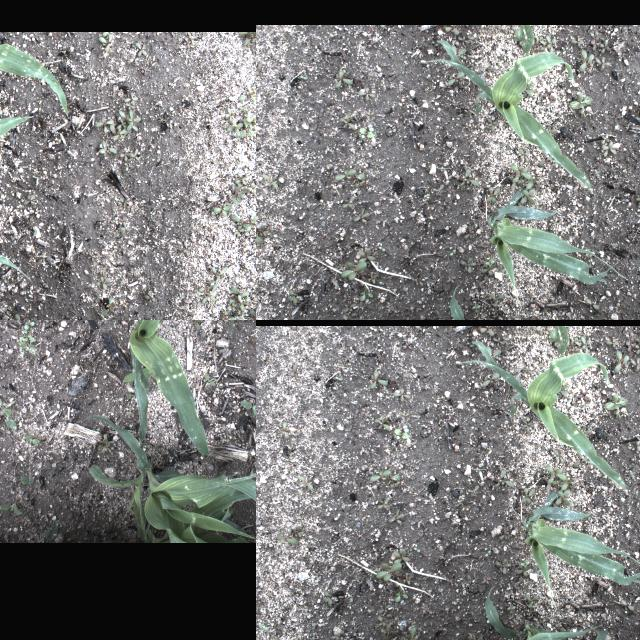crop: (424, 39, 596, 201), (459, 340, 631, 502), (85, 415, 256, 542), (488, 186, 626, 308), (129, 320, 252, 455), (523, 487, 640, 608), (484, 586, 623, 640), (0, 32, 70, 116), (449, 285, 588, 320), (0, 188, 33, 320), (0, 114, 36, 229), (519, 24, 533, 54), (554, 326, 568, 354)
weed: (92, 108, 144, 140), (224, 105, 256, 135), (231, 171, 256, 202), (228, 210, 256, 235), (340, 260, 372, 280), (375, 561, 407, 581), (0, 394, 17, 431), (604, 392, 628, 418), (228, 287, 252, 311), (569, 92, 593, 116), (127, 40, 149, 64), (509, 162, 533, 184), (488, 469, 514, 489), (96, 31, 122, 50), (215, 198, 235, 222), (454, 168, 478, 188), (123, 366, 153, 382), (544, 464, 568, 484), (198, 283, 220, 303), (512, 27, 536, 45), (118, 146, 138, 166), (483, 344, 503, 364), (276, 526, 298, 544), (548, 328, 570, 346), (334, 167, 366, 179), (578, 48, 594, 72), (601, 140, 625, 156), (369, 468, 401, 480), (208, 265, 226, 285), (334, 69, 354, 87), (448, 44, 468, 62), (18, 337, 36, 357), (369, 370, 389, 388), (613, 350, 629, 372), (238, 81, 256, 100), (380, 622, 399, 640), (96, 140, 120, 154), (352, 207, 370, 225), (387, 508, 405, 526), (100, 295, 116, 315), (520, 486, 536, 506), (144, 288, 160, 306), (260, 172, 278, 188), (480, 260, 498, 276), (447, 70, 465, 86), (485, 186, 501, 204), (519, 187, 535, 205), (23, 433, 39, 451), (238, 402, 256, 418), (392, 549, 410, 565), (554, 488, 570, 506), (357, 86, 377, 100), (6, 476, 34, 486), (392, 387, 412, 401), (237, 34, 256, 48), (116, 195, 138, 207), (514, 83, 536, 95), (358, 248, 374, 264), (516, 561, 532, 577), (560, 476, 576, 492), (110, 82, 124, 100), (122, 90, 140, 104), (536, 154, 554, 168), (482, 372, 500, 386), (360, 282, 372, 302), (46, 522, 58, 542), (278, 420, 290, 440), (395, 583, 407, 603), (405, 625, 421, 640), (550, 384, 570, 396), (580, 334, 592, 354), (0, 504, 23, 514), (360, 122, 374, 138), (296, 474, 312, 488), (394, 424, 410, 438), (525, 594, 539, 610), (220, 310, 242, 320), (117, 218, 127, 240), (546, 32, 556, 54), (594, 56, 612, 68), (571, 456, 589, 468), (490, 294, 504, 308), (526, 176, 540, 190), (620, 598, 634, 612), (181, 239, 193, 255), (486, 116, 498, 132), (584, 298, 600, 310), (374, 417, 390, 429), (376, 496, 392, 508), (24, 226, 41, 237), (182, 32, 195, 46), (342, 195, 356, 208), (22, 193, 38, 204), (177, 101, 193, 112), (340, 116, 354, 128), (342, 302, 356, 314), (518, 148, 530, 162), (589, 36, 601, 50), (100, 434, 114, 446), (204, 374, 216, 388), (288, 363, 300, 377), (521, 418, 533, 432), (553, 449, 565, 463), (624, 337, 636, 351), (288, 288, 298, 304), (444, 24, 460, 34), (600, 38, 610, 54), (479, 325, 495, 335), (246, 305, 256, 320), (518, 177, 534, 186), (553, 478, 569, 487), (629, 356, 640, 369), (98, 276, 112, 286), (520, 78, 534, 88), (542, 124, 556, 134), (323, 590, 333, 604), (577, 425, 591, 435), (532, 39, 544, 50), (468, 484, 479, 496), (558, 628, 569, 640), (434, 182, 444, 195), (256, 62, 265, 76), (189, 320, 203, 329), (272, 409, 286, 418), (138, 64, 150, 74), (368, 272, 378, 284), (458, 259, 468, 271), (462, 228, 472, 240), (457, 34, 469, 44), (542, 88, 554, 98), (534, 34, 546, 44), (601, 132, 611, 144), (20, 330, 32, 340), (100, 444, 112, 454), (258, 622, 270, 632), (396, 576, 406, 588), (378, 604, 390, 614), (377, 616, 389, 626), (492, 335, 504, 345), (556, 379, 568, 389), (15, 312, 29, 320), (570, 37, 584, 45), (605, 338, 619, 346), (186, 308, 197, 318), (125, 393, 136, 403), (256, 225, 262, 243), (403, 573, 412, 585), (493, 560, 502, 572), (140, 234, 150, 244), (361, 276, 371, 286), (342, 293, 352, 303), (595, 30, 605, 40), (377, 594, 387, 604), (497, 530, 507, 540), (578, 389, 588, 399), (570, 335, 580, 345), (568, 340, 578, 350), (261, 224, 269, 236), (266, 374, 270, 398), (296, 525, 304, 537), (380, 412, 392, 420), (496, 562, 512, 568), (402, 410, 411, 420), (630, 332, 640, 341), (634, 339, 640, 354), (536, 361, 544, 372), (344, 112, 358, 118), (468, 258, 474, 272), (366, 110, 376, 118), (390, 121, 400, 129), (385, 226, 393, 236), (466, 34, 474, 44), (478, 183, 488, 191), (24, 321, 34, 329), (130, 406, 138, 416), (268, 404, 276, 414), (425, 422, 435, 430), (420, 527, 428, 537), (400, 560, 410, 568), (422, 607, 432, 615), (467, 635, 483, 640), (520, 559, 530, 567), (480, 486, 490, 494), (500, 336, 510, 344), (540, 616, 550, 624), (594, 338, 604, 346), (342, 314, 354, 320), (388, 306, 397, 314), (635, 193, 640, 207), (344, 96, 352, 104), (351, 208, 359, 216), (367, 26, 375, 34), (449, 248, 457, 256), (486, 258, 494, 266), (446, 185, 454, 193), (379, 397, 387, 405), (386, 509, 394, 517), (402, 327, 410, 335), (484, 549, 492, 557), (514, 484, 522, 492), (355, 180, 365, 186), (365, 260, 375, 266), (502, 60, 508, 70), (390, 481, 400, 487), (506, 605, 516, 611), (536, 443, 546, 449), (462, 262, 476, 266), (560, 37, 568, 44), (504, 559, 508, 573), (504, 315, 515, 320), (472, 304, 481, 310), (502, 142, 511, 148), (636, 432, 640, 445), (299, 74, 307, 80), (379, 244, 385, 252), (371, 244, 377, 252), (500, 184, 506, 192), (406, 545, 412, 553), (558, 607, 564, 615), (424, 192, 431, 198), (335, 638, 356, 640), (414, 546, 420, 552), (258, 228, 262, 236), (436, 167, 452, 169), (524, 306, 528, 314), (334, 376, 342, 380), (458, 494, 466, 498), (536, 485, 540, 493), (472, 468, 486, 470), (388, 122, 392, 128), (290, 325, 296, 329), (293, 530, 297, 536), (422, 424, 428, 428), (256, 24, 260, 28), (380, 24, 384, 28), (256, 600, 257, 613), (158, 452, 160, 458), (414, 326, 420, 328)
